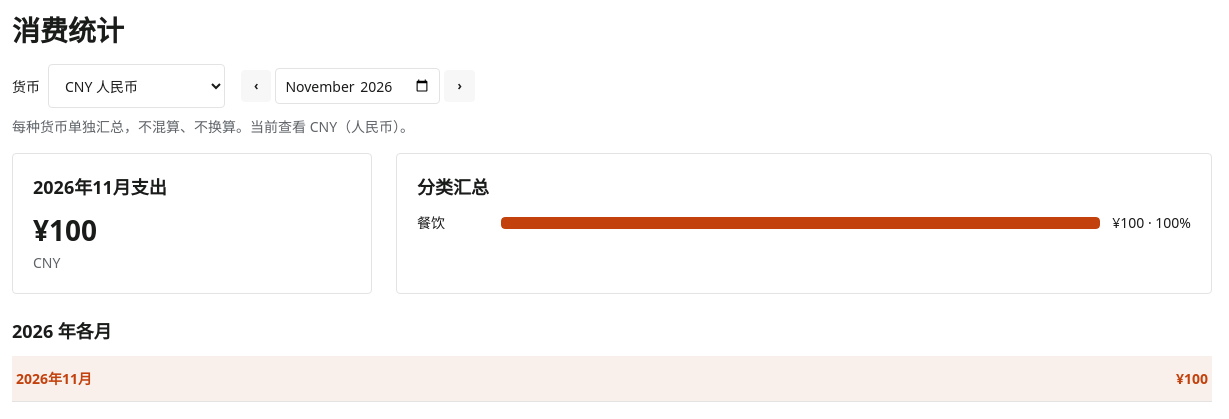
Test: SpendingPage currency separation › shows one currency at a time and refetches per currency
Check: the text with class "spending-total" reads "¥100", box top-left (33, 211), bottom-right (97, 249)
Check: the text "每种货币单独汇总，不混算、不换算。当前查看 CNY（人民币）。" is shown, box top-left (12, 117), bottom-right (414, 136)
Select "VND 越南盾" in the dropdown labelled "货币": (136, 86) top-left (48, 64), bottom-right (225, 108)
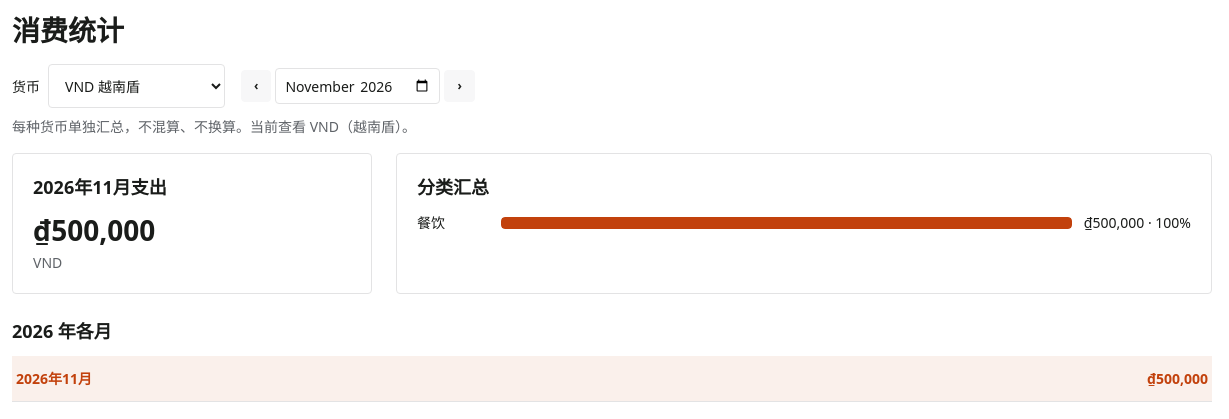
Check: the text with class "spending-total" reads "₫500,000", box top-left (33, 211), bottom-right (155, 249)
